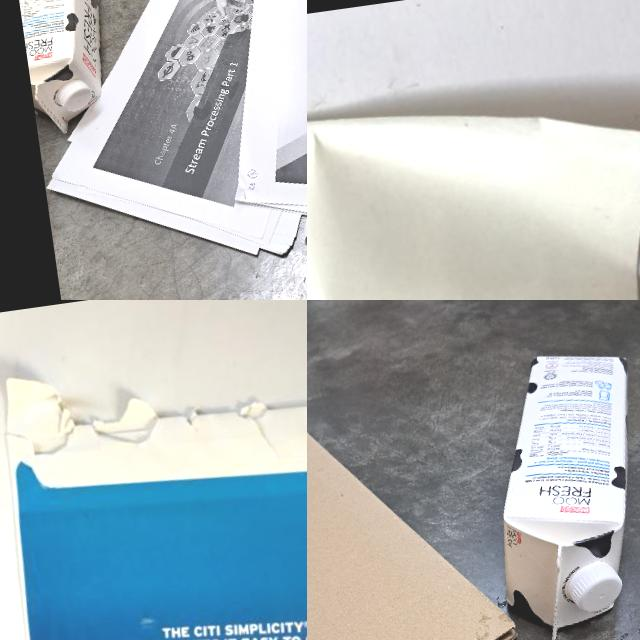caixinha: (475, 343, 640, 640), (8, 0, 123, 138)
papel: (0, 312, 307, 640), (12, 0, 307, 300), (307, 65, 640, 300)
papelão: (307, 300, 537, 640)
tampa plástica: (564, 556, 624, 616), (54, 80, 96, 114)
